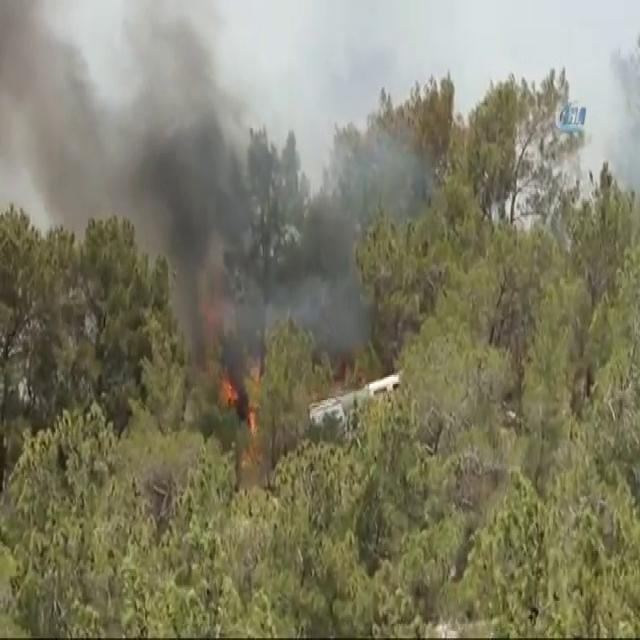Fire: (0, 5, 252, 222), (238, 374, 272, 476), (214, 328, 248, 408)
Smoke: (278, 112, 436, 371), (78, 87, 220, 277)
